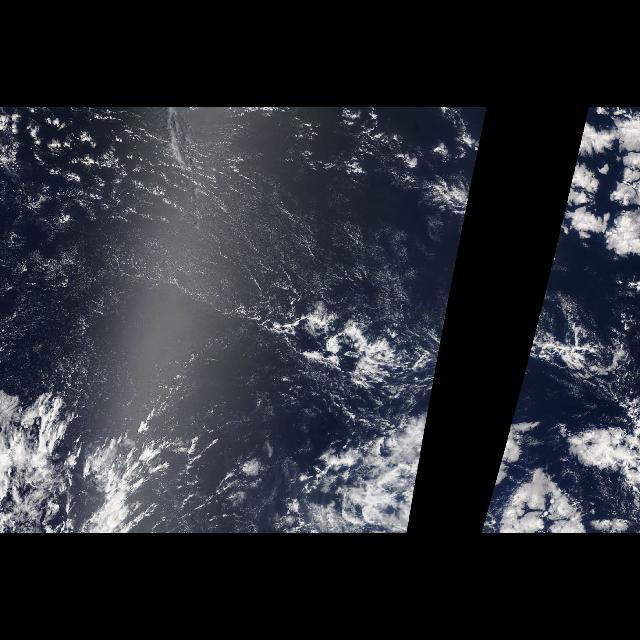Sugar: (24, 133, 444, 430)
